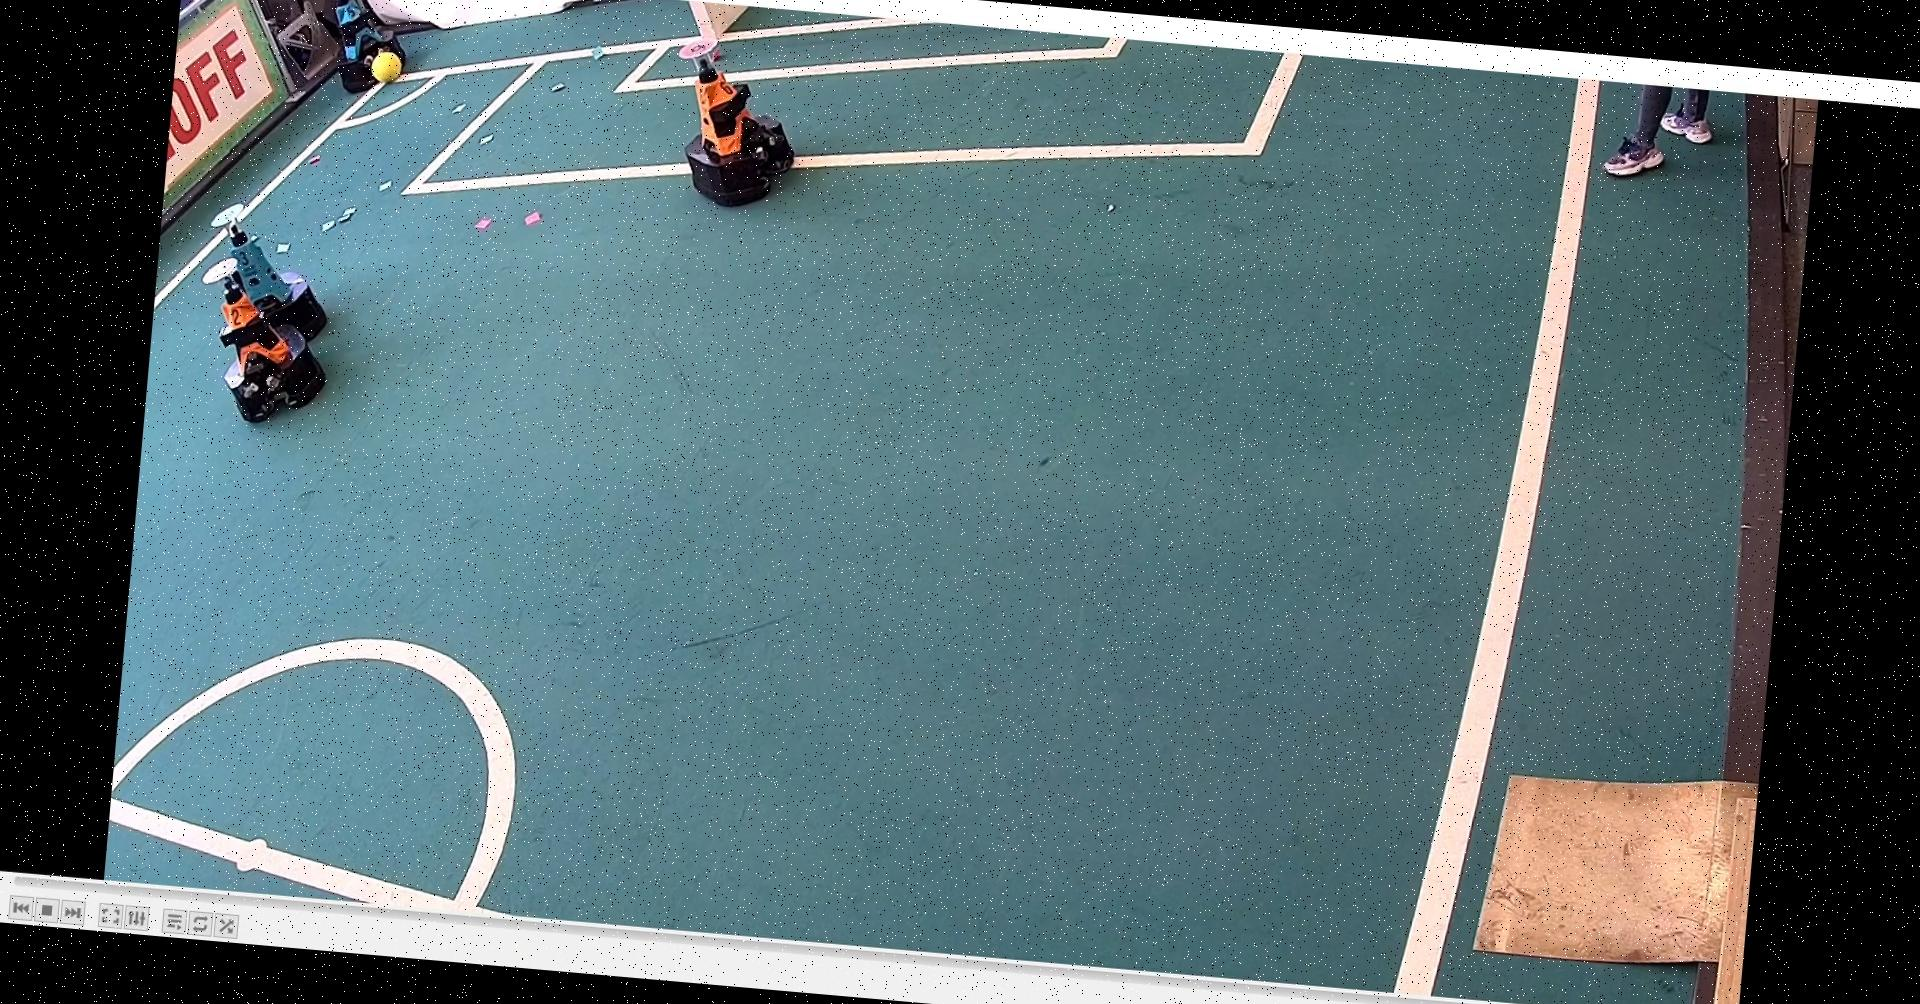Ball: (363, 44, 410, 86)
Team_Blue: (201, 198, 339, 354), (309, 0, 419, 96)
Team_Red: (660, 29, 808, 223), (188, 256, 339, 428)
